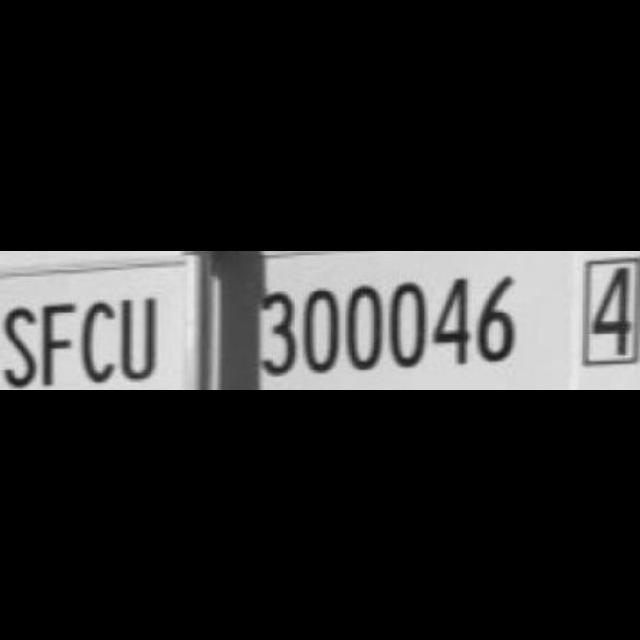0: (386, 276, 434, 372), (299, 283, 343, 379), (344, 279, 386, 375)
3: (262, 286, 300, 378)
4: (589, 260, 635, 362), (428, 273, 474, 373)
6: (476, 270, 522, 372)
c: (81, 296, 117, 386)
f: (38, 298, 80, 389)
s: (0, 300, 38, 390)
u: (119, 293, 165, 381)
